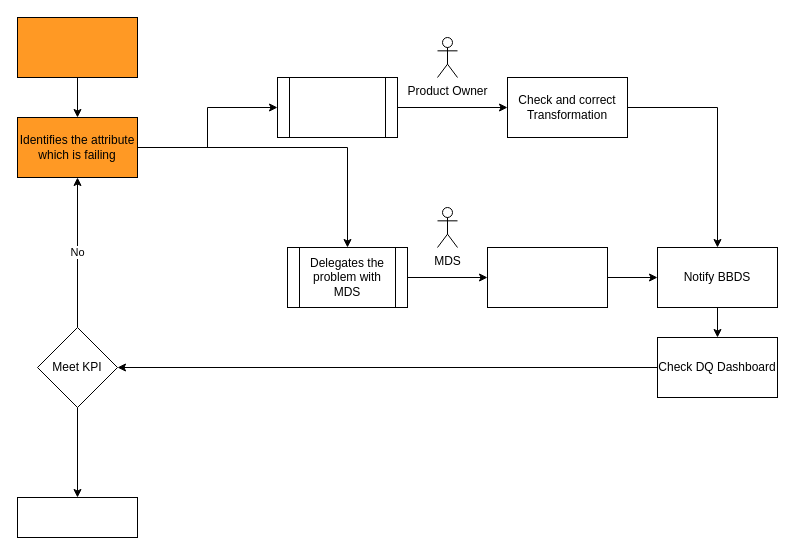
Image size: 795x555. Some labels were removed from this diagram. Each missing label, with the centre of its shape:
Correct Master Data: pixel 547 277
Delegates the problem with Product Owner: pixel 337 107
DQ Ready: pixel 77 517
System notifies the DW Issue to BDDS: pixel 77 47
